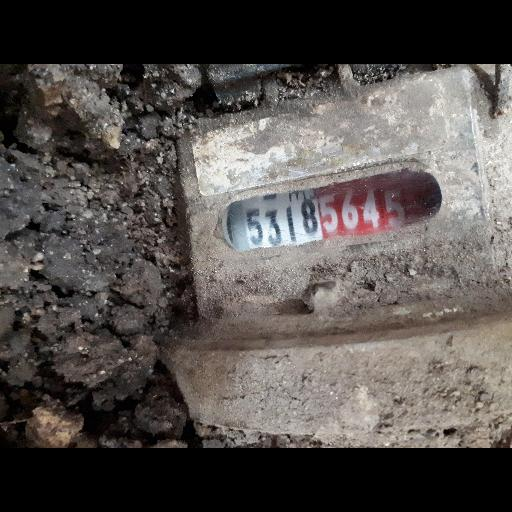1: (277, 201, 303, 246)
3: (261, 203, 284, 247)
4: (357, 183, 385, 234)
5: (378, 179, 410, 229), (315, 191, 343, 239), (244, 206, 266, 249)
6: (336, 185, 365, 237)
8: (295, 197, 323, 243)
border_water_meter_number: (216, 164, 446, 257)
